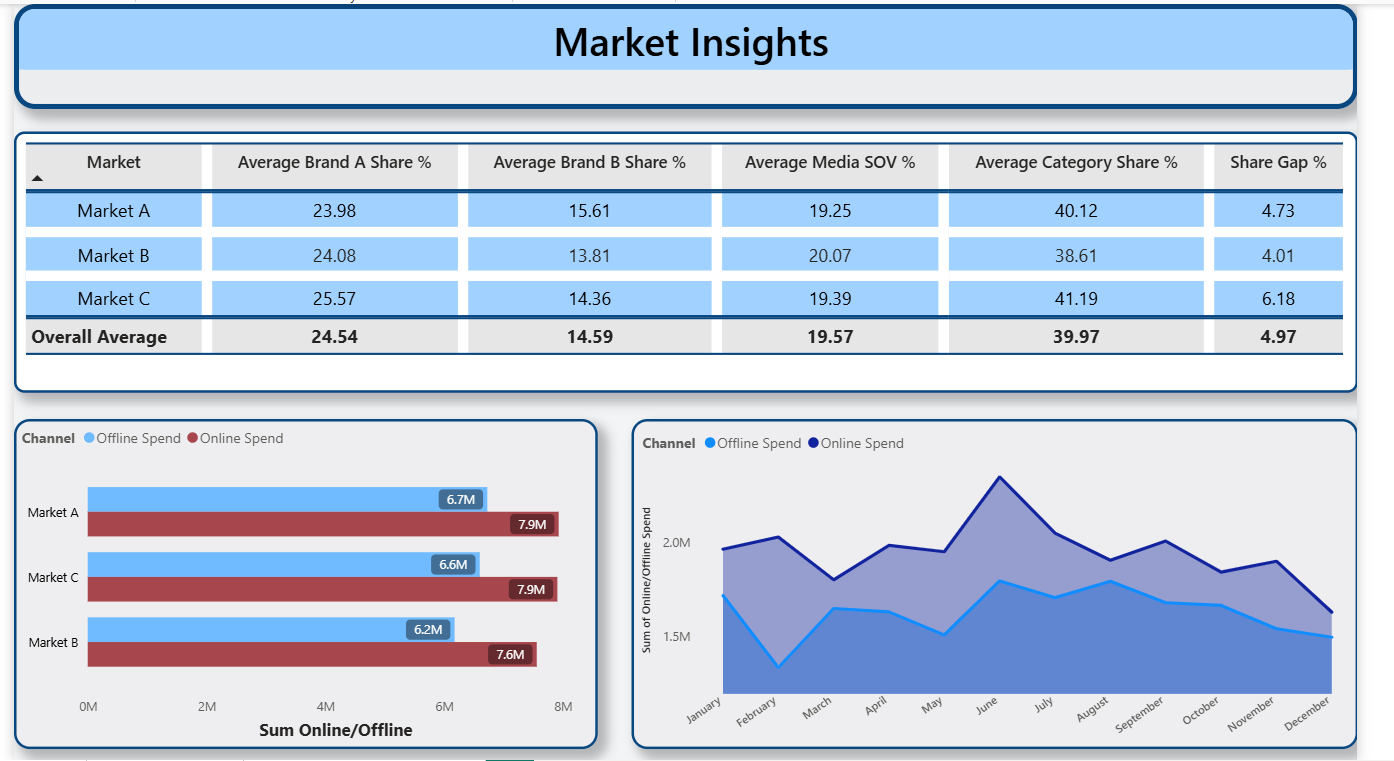

What the dashboard file says about the page in this screenshot:
{"tool":"powerbi","page":{"name":"Market Insights","canvas":[1280,720],"ordinal":1},"visuals":[{"type":"textbox","title":"Market Insights","box":[0,0,1280,100],"z":0},{"type":"tableEx","fields":{"Values":["Media Share.Market","Avg(Media Share.BrandAMarketShare)","Avg(Media Share.BrandBMarketShare)","Avg(Media Share.MediaShareOfVoice)","Avg(Media Share.CategoryShare)","Media Share.Share Gap %"]},"box":[0,121.4,1280,248.6],"z":1000},{"type":"clusteredBarChart","fields":{"Category":["Market Spend.Market"],"Y":["Sum(Market Spend.Value)"],"Series":["Channel_Dimension.Channel"]},"box":[0,395.7,555.7,314.3],"z":2000},{"type":"areaChart","fields":{"Category":["Date_Dimension.MonthName"],"Y":["Sum(Market Spend.Value)"],"Series":["Channel_Dimension.Channel"]},"box":[588.1,395.2,691.7,314.3],"z":3000}]}

Visuals, with their boxes in screenshot pixels (x1, y1, x2, y2):
"Market Insights" textbox: locate(15, 0, 1351, 104)
tableEx - Media Share.Market x Avg(Media Share.BrandAMarketShare): locate(15, 127, 1351, 386)
clusteredBarChart - Market Spend.Market x Sum(Market Spend.Value): locate(15, 413, 595, 741)
areaChart - Date_Dimension.MonthName x Sum(Market Spend.Value): locate(629, 413, 1351, 741)
